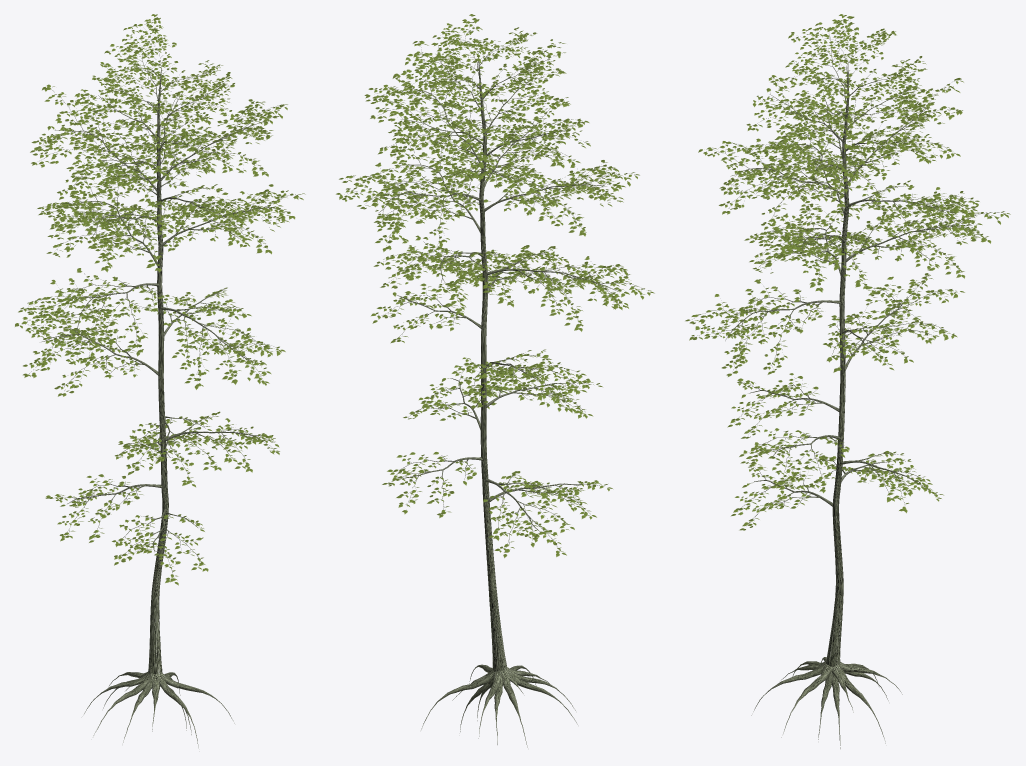
The picture shows the model from 3 angles, left to right: view 1: azimuth 30°, elevation 25°; view 2: azimuth 150°, elevation 25°; view 3: azimuth 270°, elevation 25°; orthographic projection. The views are drawn at different scales.
Visible parts, largest first — view 1: Beech_Medium_02.Shape; view 2: Beech_Medium_02.Shape; view 3: Beech_Medium_02.Shape.
Boxes of the visible parts, x1=… form: Beech_Medium_02.Shape: x1=15, y1=14, x2=305, y2=747; Beech_Medium_02.Shape: x1=336, y1=14, x2=654, y2=747; Beech_Medium_02.Shape: x1=685, y1=14, x2=1010, y2=748.
Bounding box in the file's own units: 4.55 × 11.71 × 4.85.
Materials: 2 (2 with a texture image).
